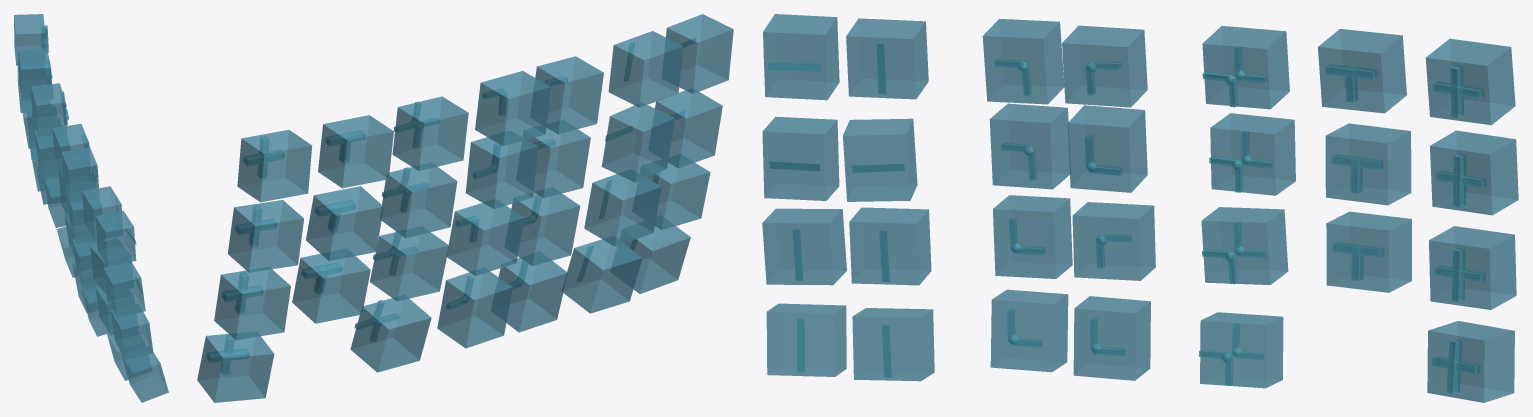
File: lazer hologram puzzle lock hologram direction blocks for the lazer.fbx
3 renders of one model, left to right at view 1: azimuth 30°, elevation 25°; view 2: azimuth 150°, elevation 25°; view 3: azimuth 270°, elevation 25°, orthographic. The views are drawn at different scales.
Visible parts, largest first — view 1: f24c235a-e8d5-4942-9f11-7abed48e8fa1; view 2: f24c235a-e8d5-4942-9f11-7abed48e8fa1; view 3: f24c235a-e8d5-4942-9f11-7abed48e8fa1.
Part boxes in pixels (<box>): f24c235a-e8d5-4942-9f11-7abed48e8fa1: <box>14,14,168,402</box>; f24c235a-e8d5-4942-9f11-7abed48e8fa1: <box>197,14,733,402</box>; f24c235a-e8d5-4942-9f11-7abed48e8fa1: <box>762,14,1518,402</box>.
Bounding box in the file's own units: 36868 × 45531 × 80353.
